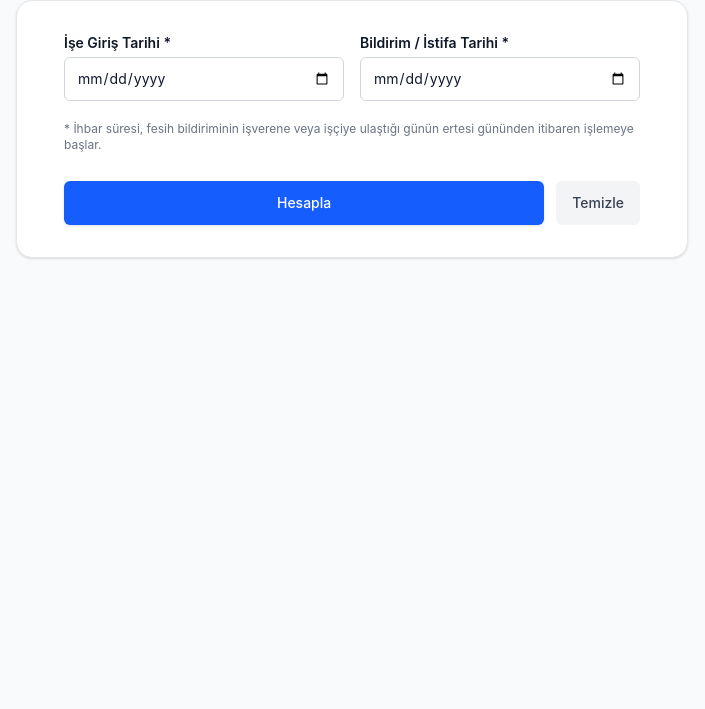
NoticePeriodCalculator — UI ve Etkileşim Testleri › 1 yıllık çalışan için iki katmanlı sonuç, olası bitiş tarihi ve toggle davranışı
The image size is (705, 709).
Step 1. Type "2025-01-01" into the date field labelled "İşe Giriş Tarihi *" → coordinates (204, 79), box x1=64 y1=57 x2=344 y2=101
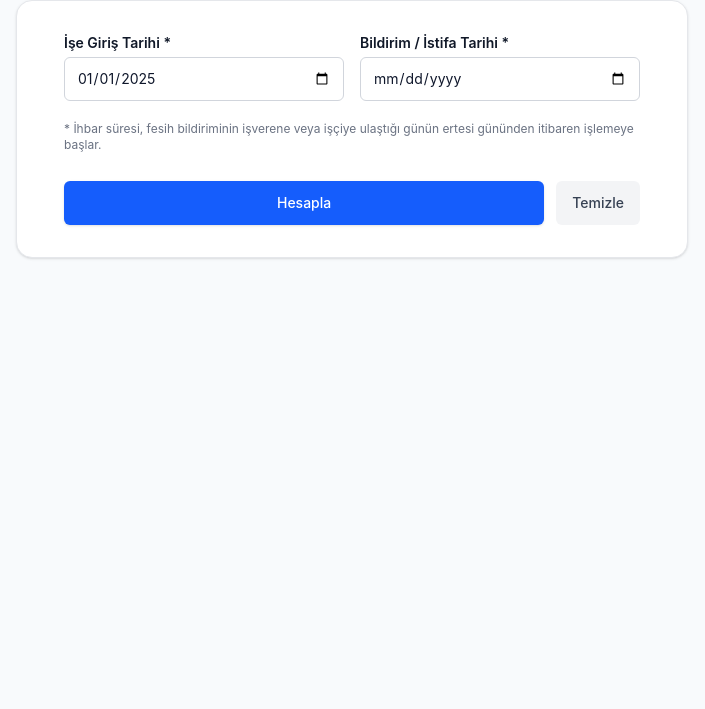
Step 2. Type "2026-01-01" into the date field labelled "Bildirim / İstifa Tarihi *" → coordinates (500, 79), box x1=360 y1=57 x2=640 y2=101
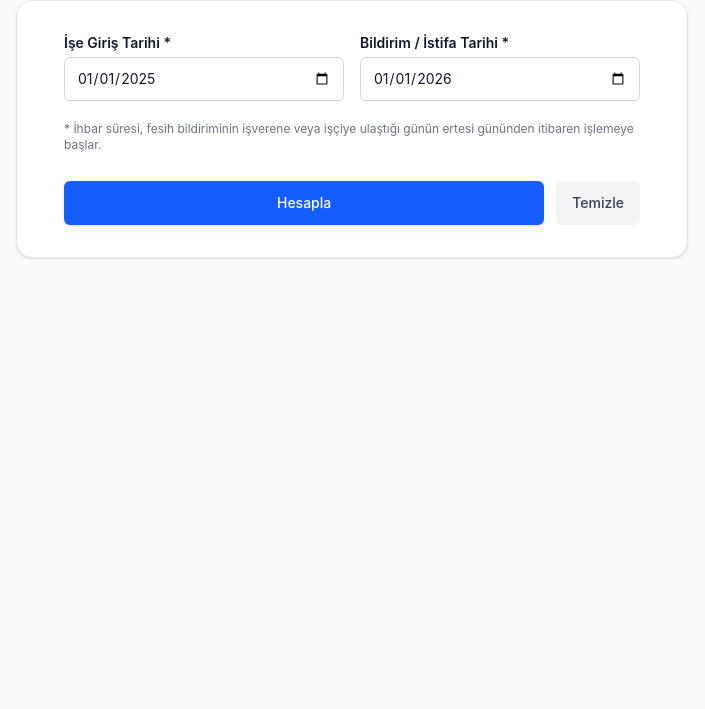
# Hesapla butonuna tıkla
Step 3. Click the button "Hesapla" → coordinates (304, 203), box x1=64 y1=181 x2=544 y2=225
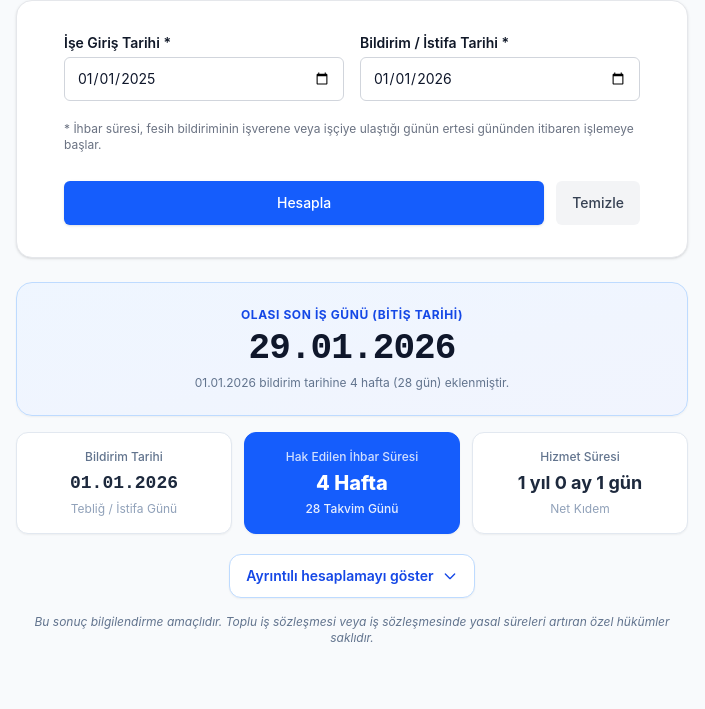
Result: the text "Olası Son İş Günü (Bitiş Tarihi)" is shown at x1=241 y1=307 x2=463 y2=323
Result: the text "29.01.2026" is shown at x1=248 y1=329 x2=456 y2=369
Result: the text "4 Hafta" is shown at x1=316 y1=471 x2=388 y2=495
Step 4. Click the button "Ayrıntılı hesaplamayı göster" → coordinates (352, 576), box x1=229 y1=554 x2=475 y2=598
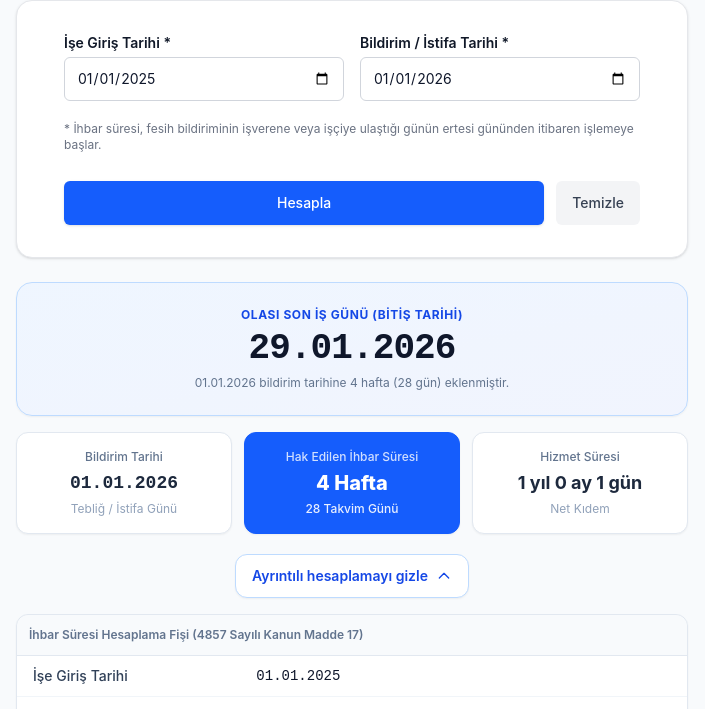
Result: the text "İhbar Süresi Hesaplama Fişi (4857 Sayılı Kanun Madde 17)" is shown at x1=17 y1=615 x2=687 y2=656
Result: the button named "Ayrıntılı hesaplamayı göster" is expanded
Step 5. Click the button named "Ayrıntılı hesaplamayı göster" → coordinates (352, 576), box x1=235 y1=554 x2=469 y2=598
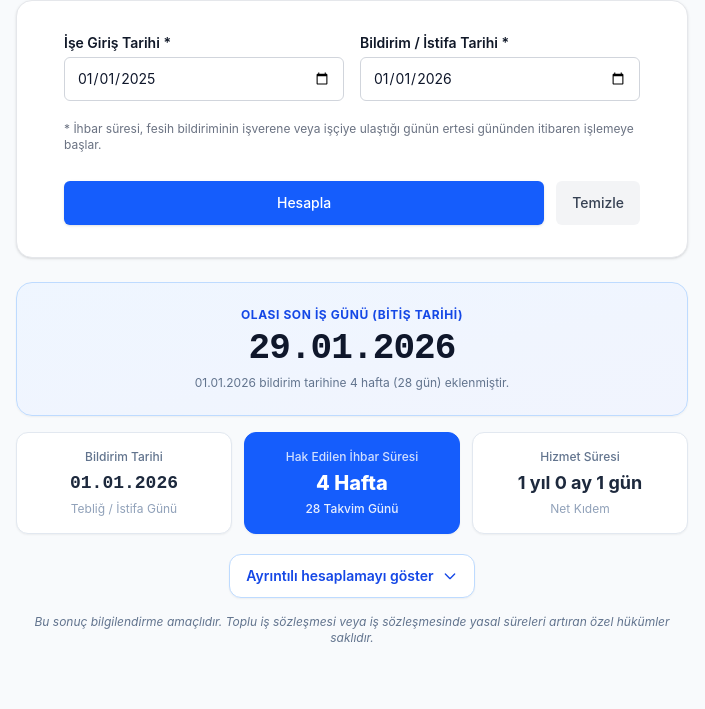
Result: the text "İhbar Süresi Hesaplama Fişi" is gone
